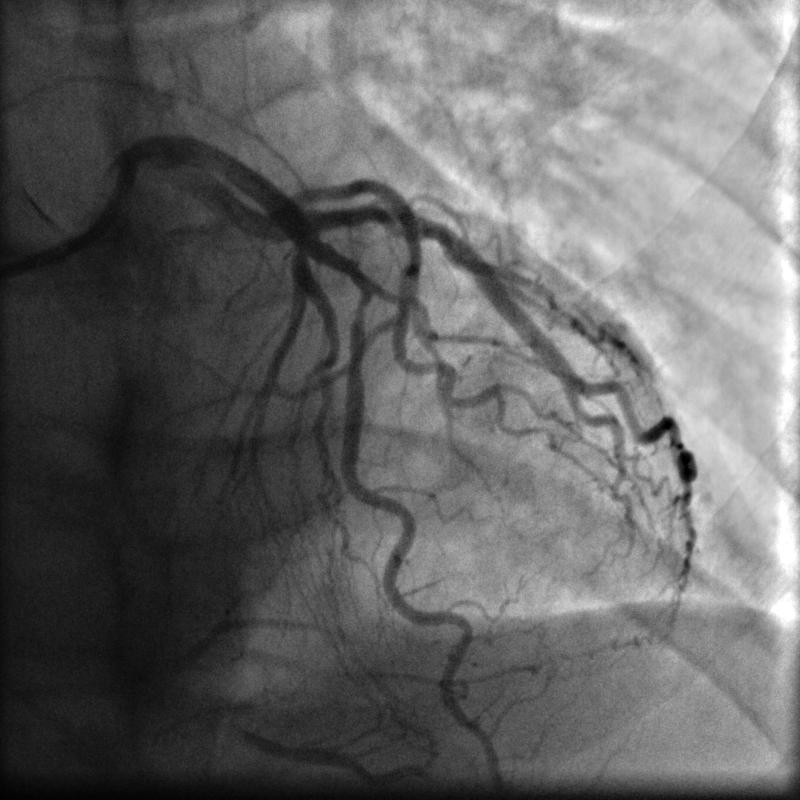Stenosis: (346, 282, 375, 354)
